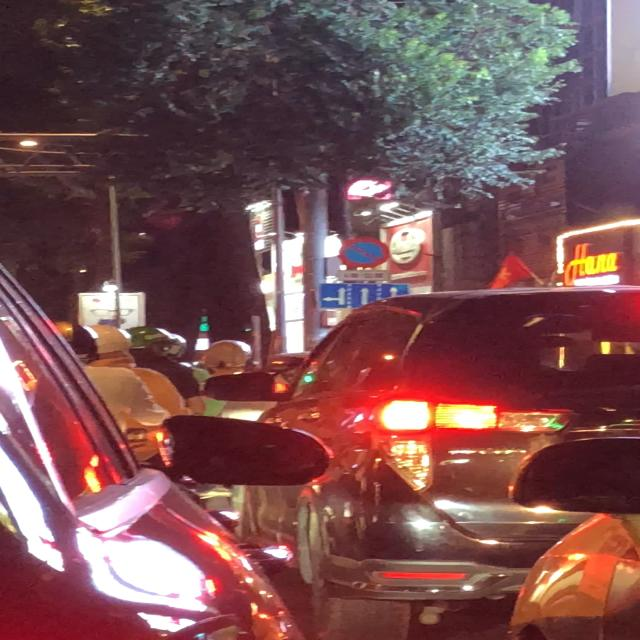Bien bao cam do xe: (335, 237, 395, 270)
